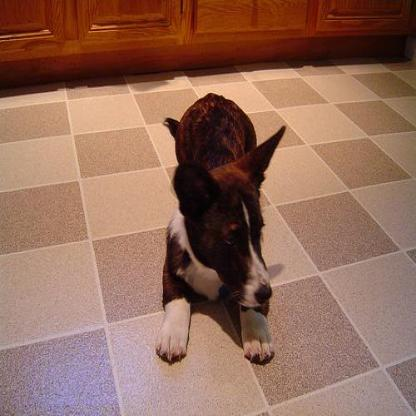Cardigan: (155, 92, 286, 365)
